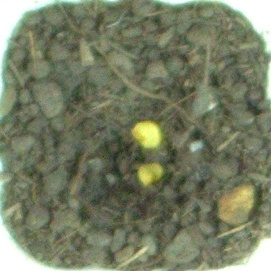pepper seed: (52, 67, 219, 255), (49, 45, 212, 195)
